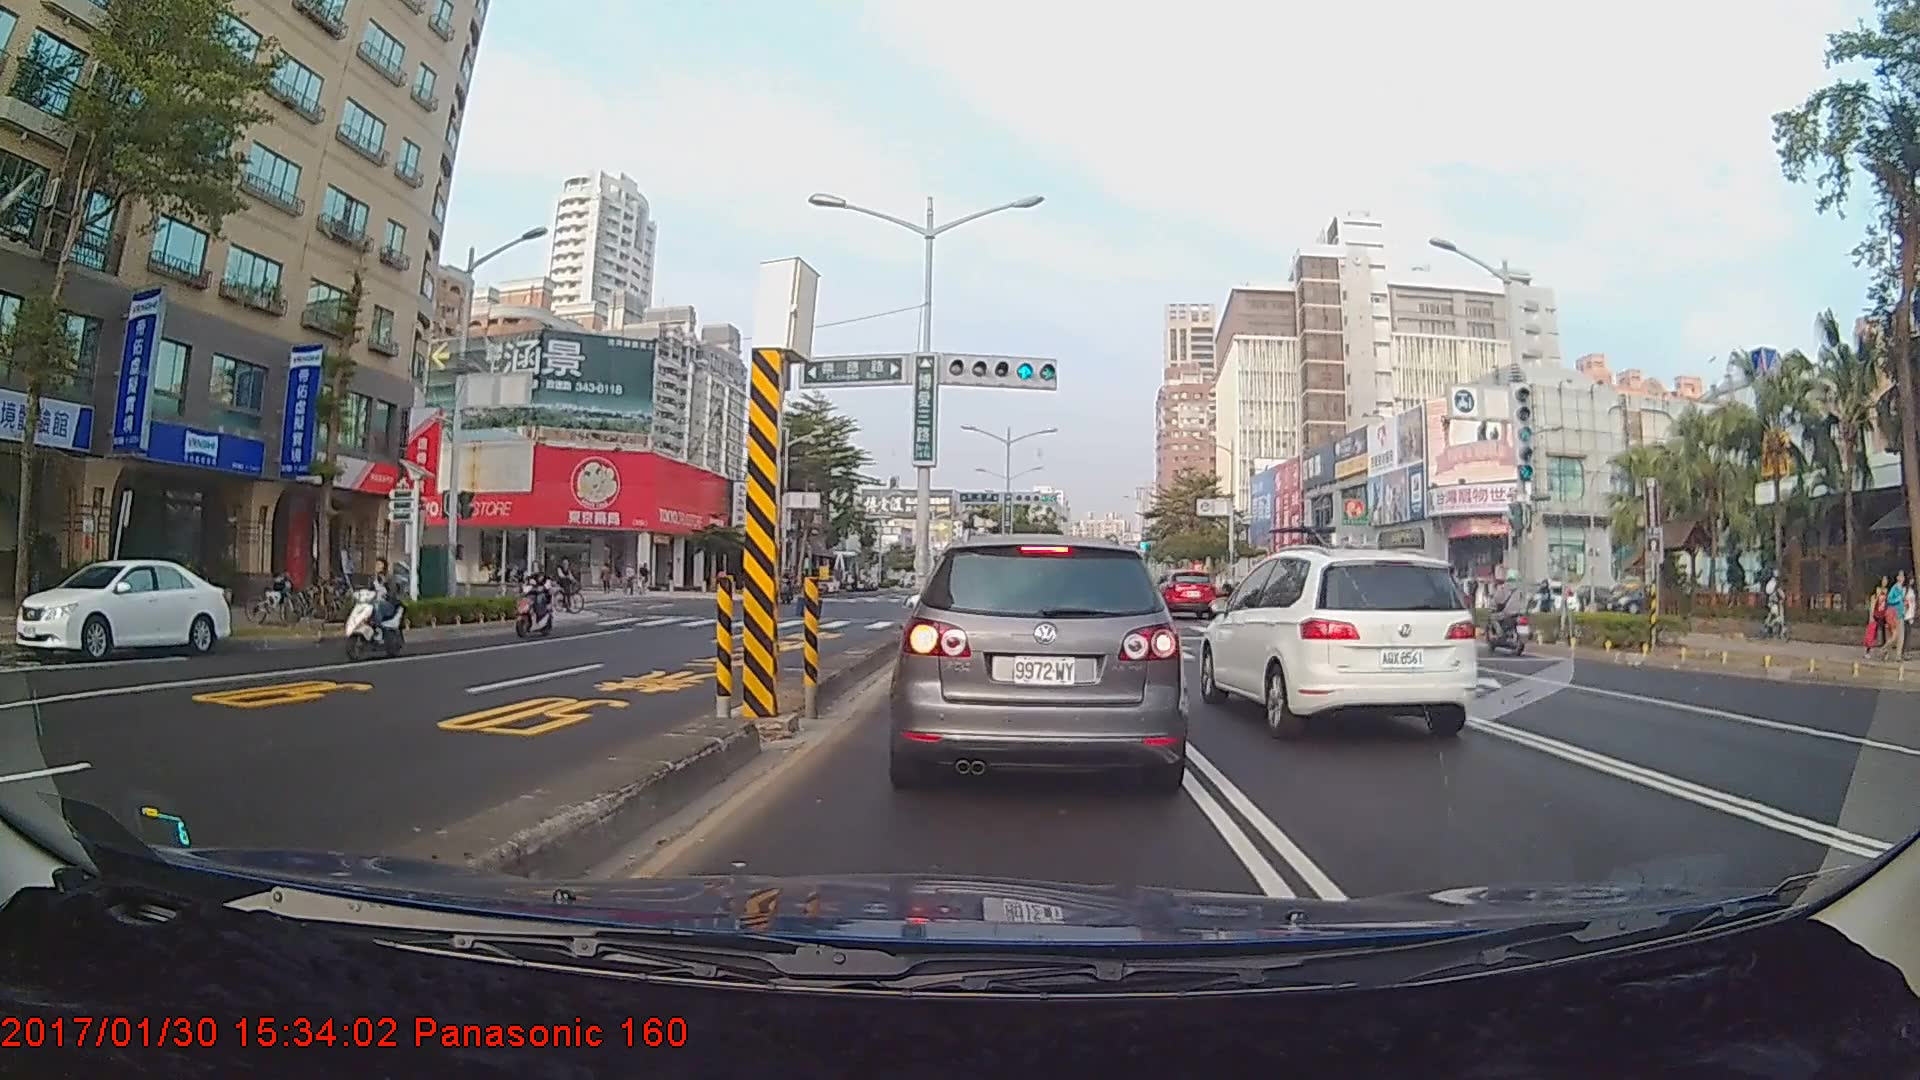pedestrian: (1864, 573, 1893, 659), (1883, 572, 1909, 663), (1899, 572, 1920, 660)
rider: (335, 556, 413, 663), (1470, 565, 1535, 653), (514, 564, 561, 643), (1755, 562, 1796, 646), (559, 557, 595, 617)
vehicle: (894, 529, 1185, 790), (1197, 543, 1478, 742), (14, 556, 229, 662), (1152, 569, 1218, 619)
